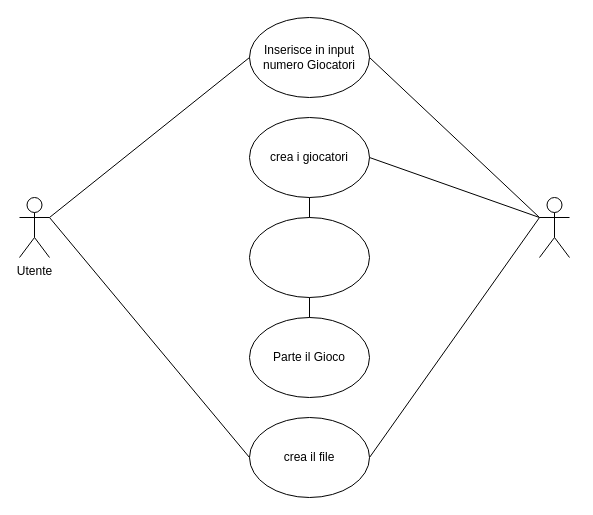
Some shapes in this 593 by 515 pixel diagram are drawn without their labels. The centre of each missing label's shape, as x and y in pixels:
"crea le sedie" goes at [309,257].
"Sistema" goes at [554,227].
